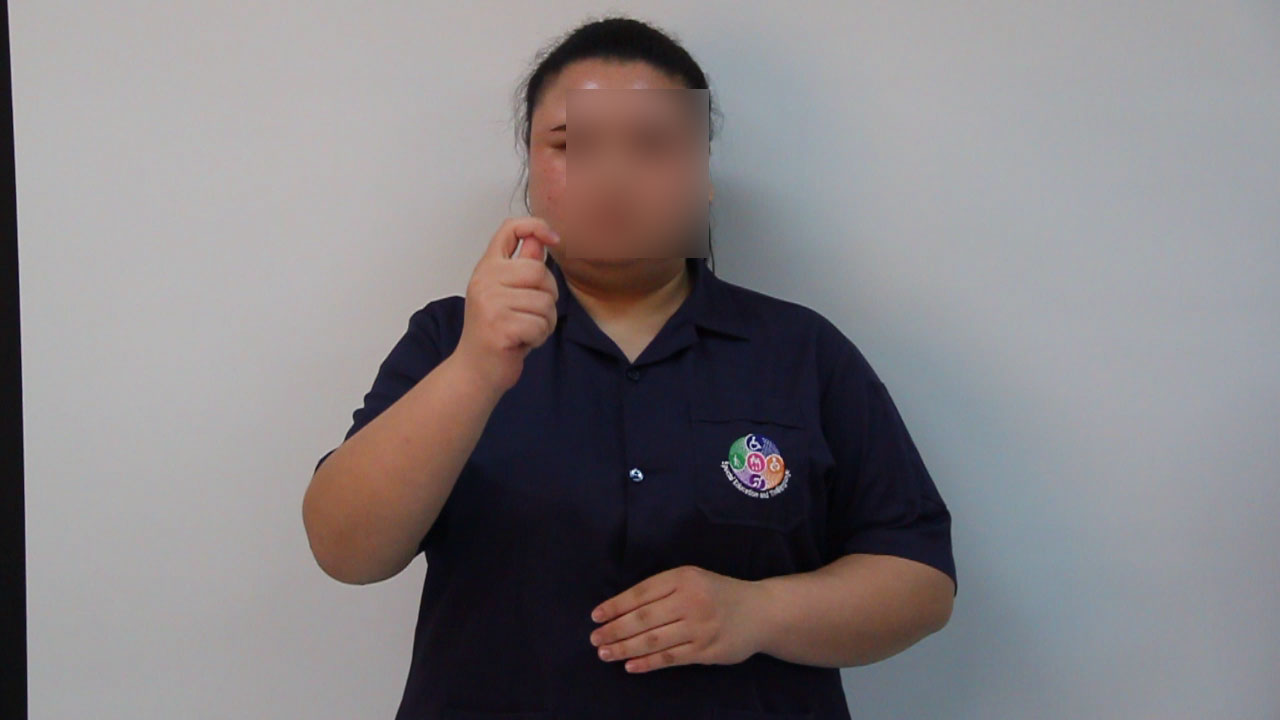or: (454, 212, 569, 389)
